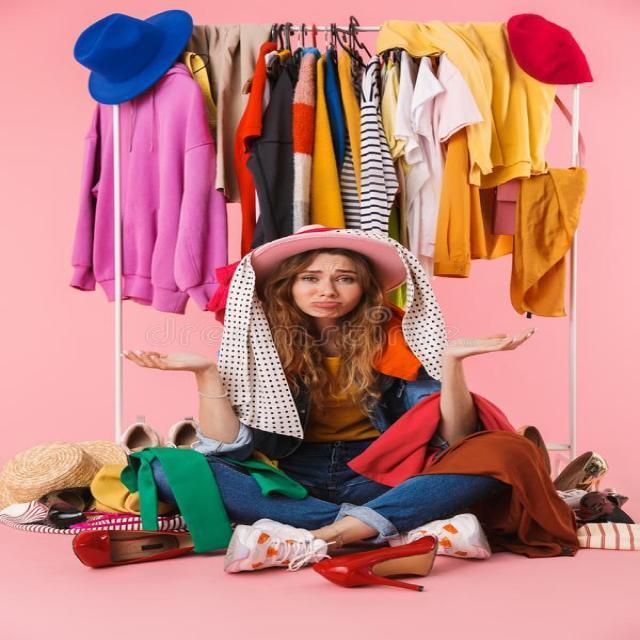clothes: (89, 24, 586, 236)
